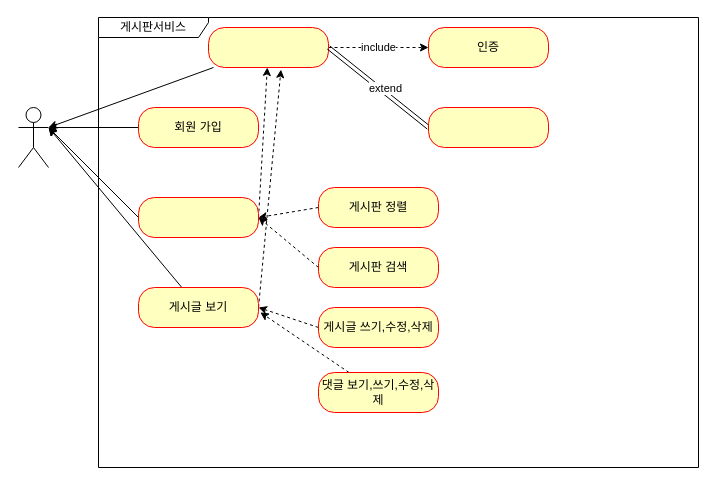
The diagram is 716 pixels wide and 485 high, and some of its shapes have lost their labels. The centre of each missing label's shape, as x and y in pixels:
"게시판 보기" goes at (198,217).
"로그인 실패" goes at (488,127).
"이용자" goes at (33,137).
"회원 로그인" goes at (268,47).
